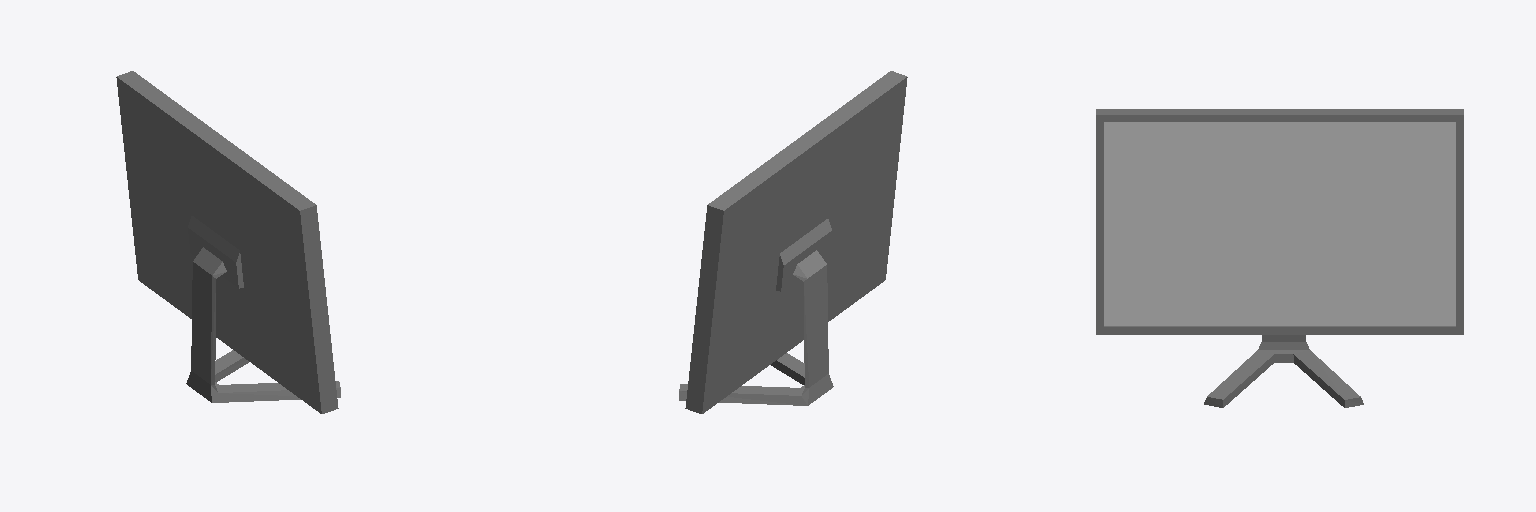
File: Computer.obj
The picture shows the model from 3 angles: view 1: azimuth 30°, elevation 25°; view 2: azimuth 150°, elevation 25°; view 3: azimuth 270°, elevation 25°; orthographic projection.
Parts seen in each view (by area): view 1: Computer.obj; view 2: Computer.obj; view 3: Computer.obj.
Part boxes in pixels (bbox=[...]): Computer.obj: bbox=[116, 71, 340, 413]; Computer.obj: bbox=[679, 71, 907, 413]; Computer.obj: bbox=[1096, 109, 1463, 407].
Bounding box in the file's own units: 0.1705 × 0.3731 × 0.4938.